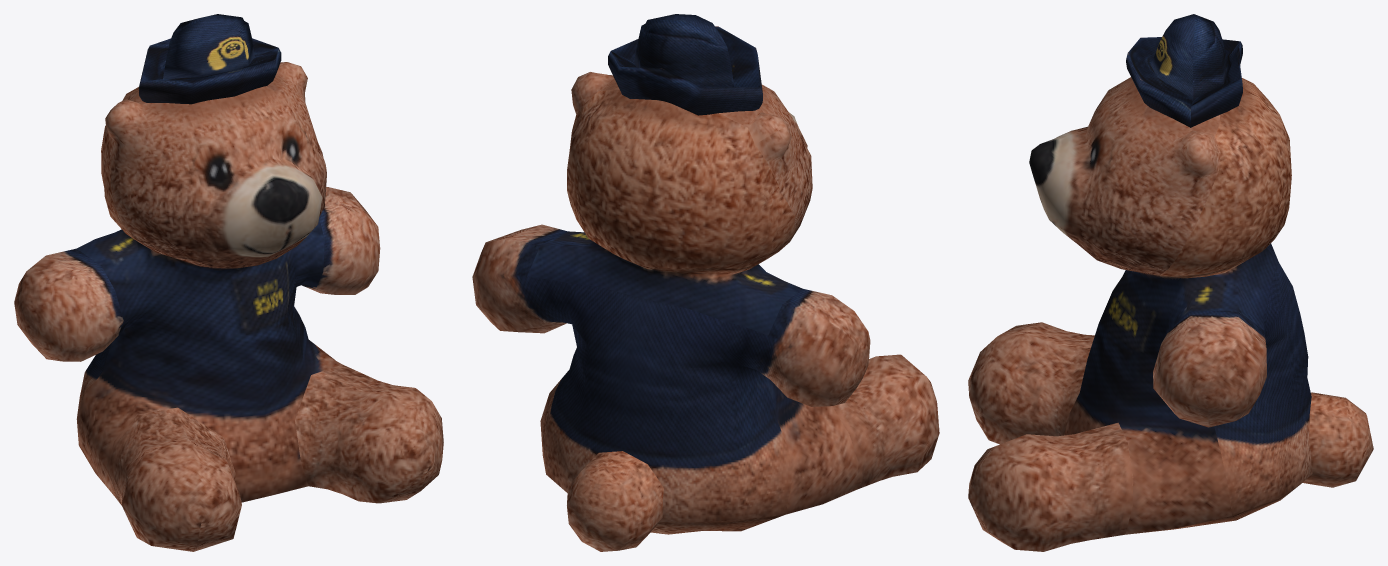
Rendered from wanju_jingchaxiong.fbx.
3 views of the same model, side by side, from view 1: azimuth 30°, elevation 25°; view 2: azimuth 150°, elevation 25°; view 3: azimuth 270°, elevation 25° (orthographic). The views are drawn at different scales.
Parts seen in each view (by area): view 1: wanju_jingchaxiong1; view 2: wanju_jingchaxiong1; view 3: wanju_jingchaxiong1.
Boxes of the visible parts, left/top/right/bottom form: wanju_jingchaxiong1: left=14, top=14, right=443, bottom=551; wanju_jingchaxiong1: left=472, top=14, right=939, bottom=551; wanju_jingchaxiong1: left=968, top=14, right=1373, bottom=551.
Bounding box in the file's own units: 16.83 × 21.07 × 16.15.
